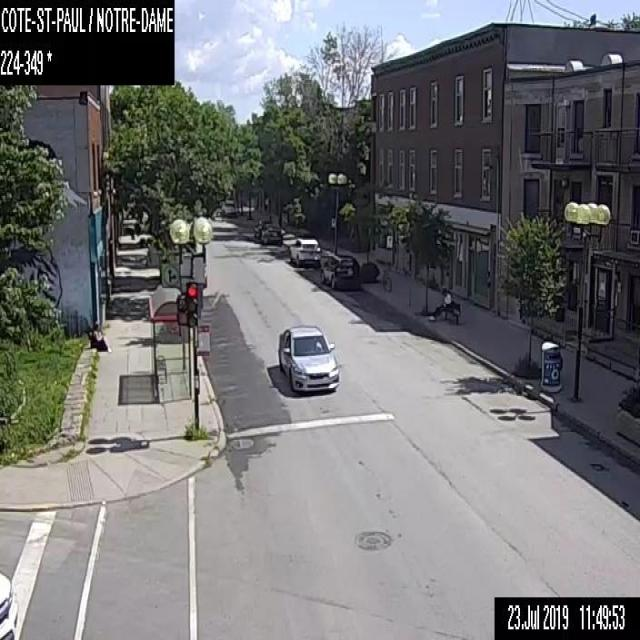pedestrian: (428, 286, 452, 320)
vehicle: (277, 323, 339, 392), (320, 253, 361, 290), (0, 568, 18, 639), (289, 237, 320, 265), (260, 224, 282, 243), (253, 219, 271, 236), (223, 200, 236, 213)
